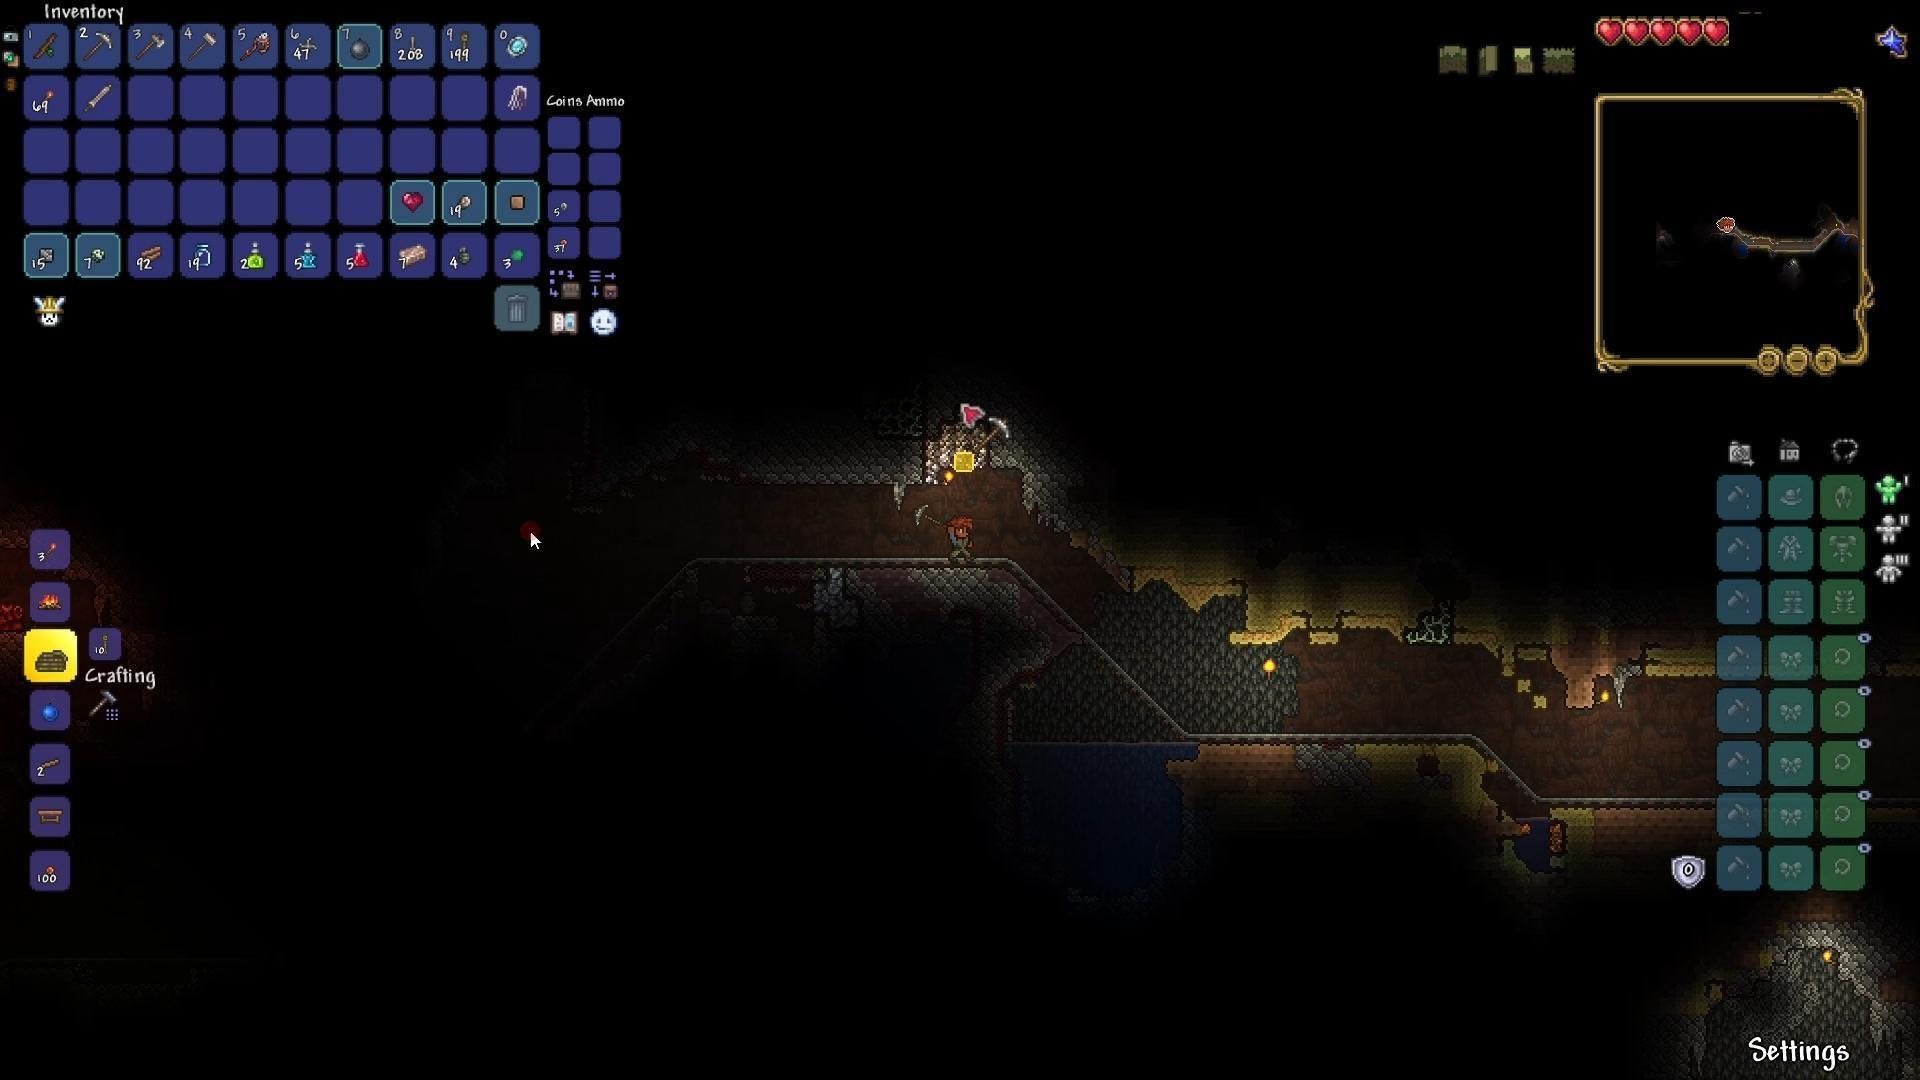heart: (1702, 17, 1733, 51), (1593, 16, 1626, 46), (1676, 15, 1704, 50), (1650, 16, 1676, 49), (1625, 15, 1651, 44)
liquid: (1006, 725, 1183, 757)
sand: (1130, 559, 1261, 608), (1349, 736, 1484, 774), (1640, 642, 1724, 686), (1230, 607, 1311, 646), (1338, 605, 1404, 641), (1300, 608, 1349, 647), (1448, 617, 1513, 646), (1545, 800, 1592, 829)
stone: (756, 423, 942, 497), (910, 556, 1033, 655), (1796, 915, 1876, 1025)
